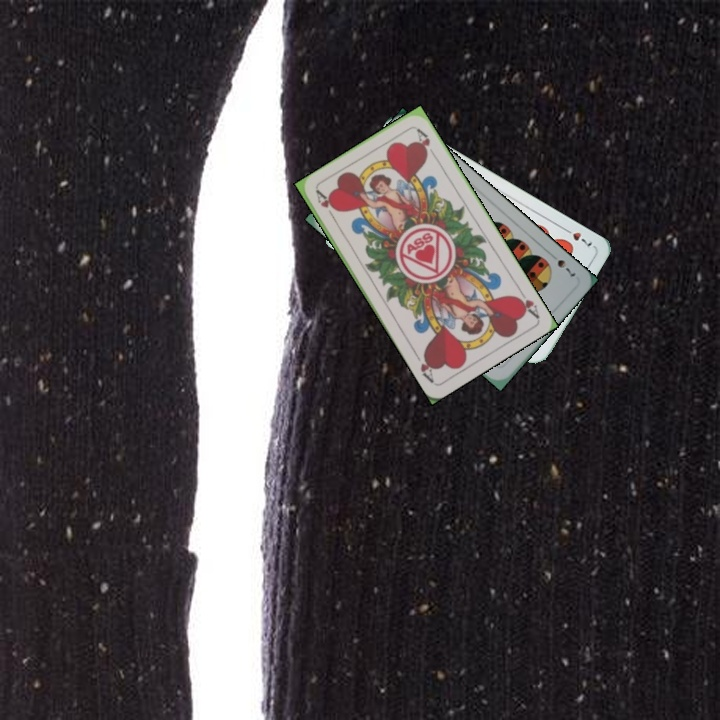H7: (559, 223, 595, 249)
HA: (511, 283, 542, 320), (312, 186, 339, 224)
S7: (553, 255, 578, 279)
